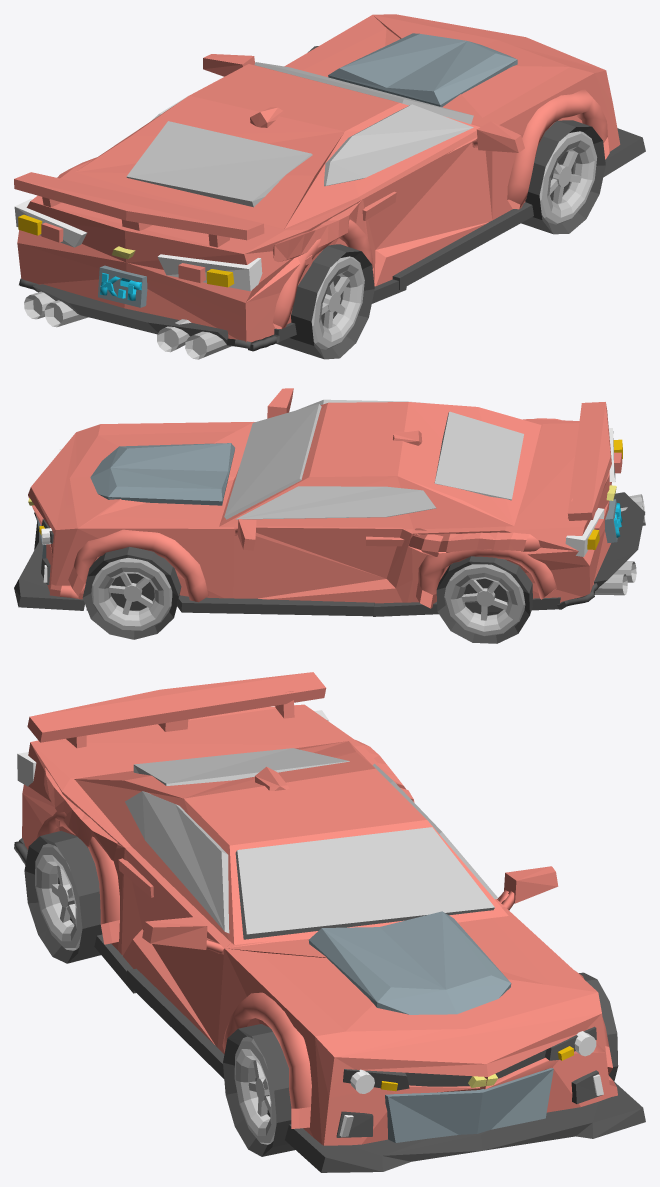
File: car.dae
The picture shows the model from 3 angles, top to bottom: view 1: azimuth 30°, elevation 25°; view 2: azimuth 150°, elevation 25°; view 3: azimuth 270°, elevation 25°; orthographic projection. The views are drawn at different scales.
Parts seen in each view (by area): view 1: model; view 2: model; view 3: model.
Boxes of the visible parts, x1=… form: model: x1=14, y1=14, x2=645, y2=359; model: x1=14, y1=388, x2=645, y2=643; model: x1=14, y1=672, x2=645, y2=1172.
Bounding box in the file's own units: 0.7838 × 0.5808 × 0.2227.
